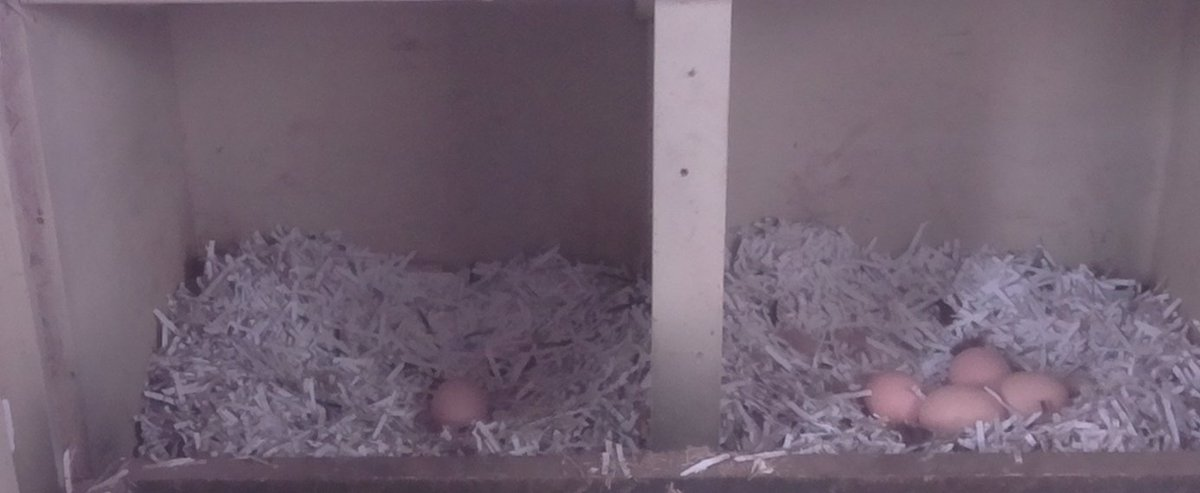egg: (917, 383, 1013, 440), (859, 365, 927, 434), (999, 366, 1076, 424), (426, 376, 494, 432), (943, 344, 1012, 389)
